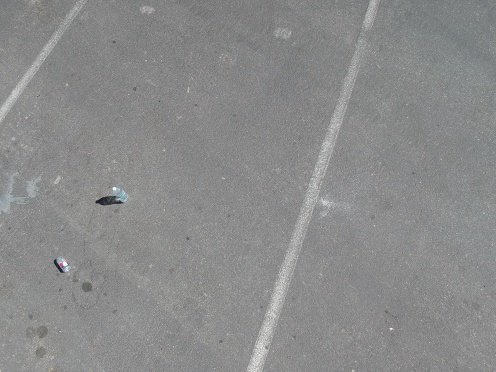bottle: (112, 182, 131, 206)
can: (51, 254, 75, 277)
